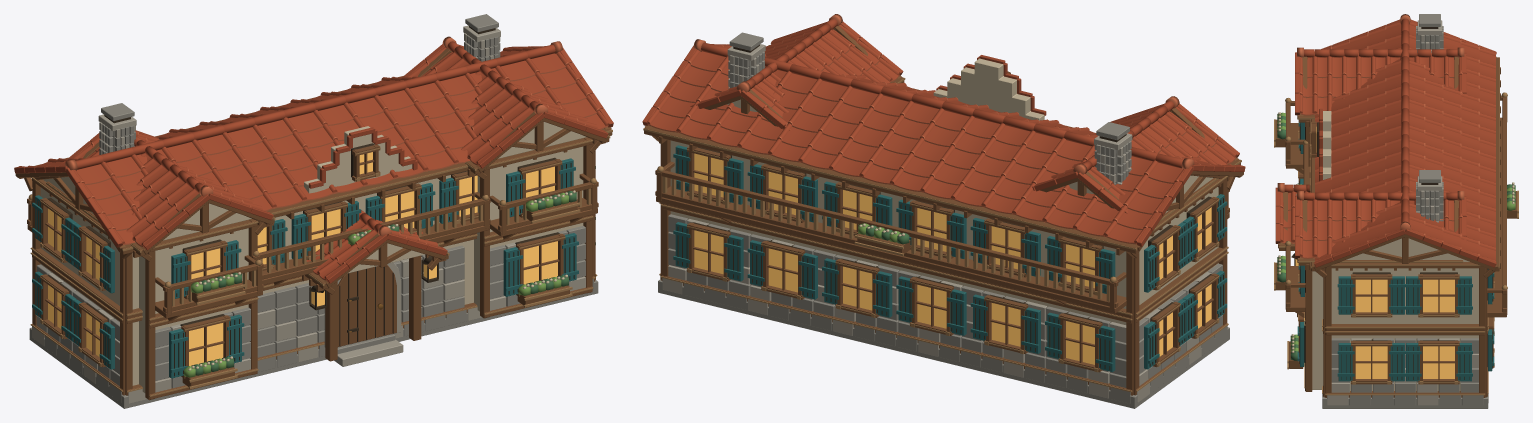
The picture shows the model from 3 angles, left to right: view 1: azimuth 30°, elevation 25°; view 2: azimuth 150°, elevation 25°; view 3: azimuth 270°, elevation 25°; orthographic projection. The views are drawn at different scales.
Visible parts, largest first — view 1: alpine_skyscraper_2_geometry; view 2: alpine_skyscraper_2_geometry; view 3: alpine_skyscraper_2_geometry.
Part boxes in pixels (left/top/right/bottom): alpine_skyscraper_2_geometry: left=14, top=14, right=613, bottom=408; alpine_skyscraper_2_geometry: left=642, top=14, right=1245, bottom=408; alpine_skyscraper_2_geometry: left=1274, top=14, right=1518, bottom=408.
Size of the model in its own units: 2.09 by 0.9706 by 1.02.
